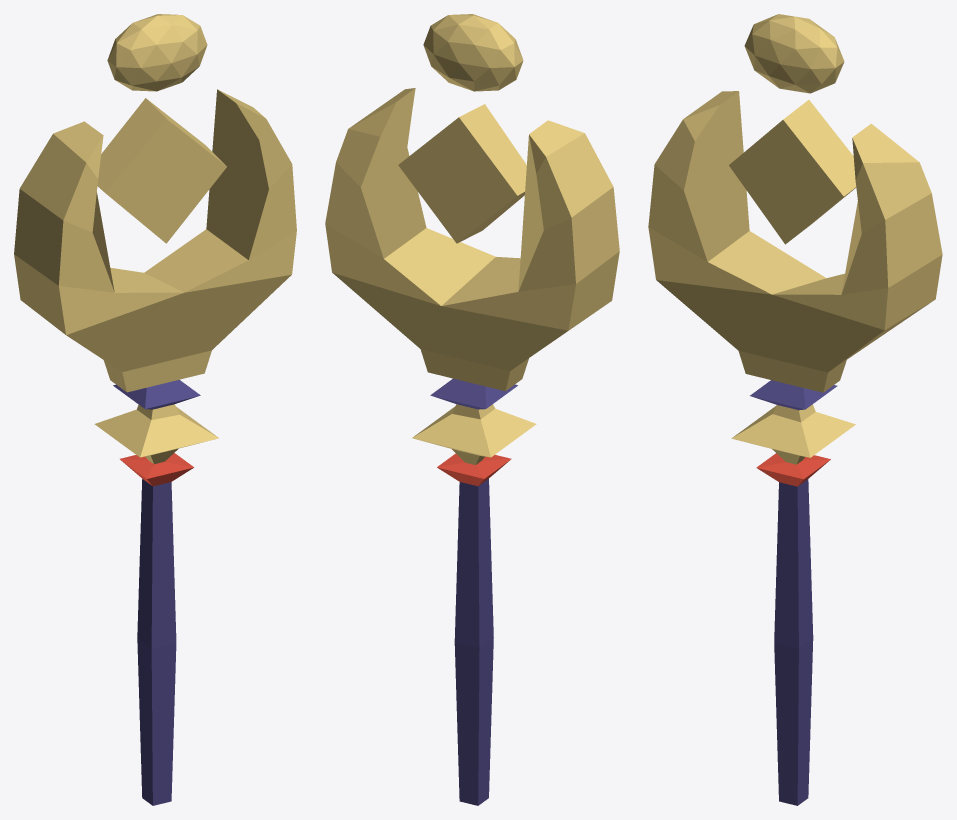
Rendered from Wand.fbx.
3 renders of one model, left to right at view 1: azimuth 30°, elevation 25°; view 2: azimuth 150°, elevation 25°; view 3: azimuth 330°, elevation 25°, orthographic.
Visible parts, largest first — view 1: wand; view 2: wand; view 3: wand.
Boxes of the visible parts, bbox=[...] form: wand: bbox=[14, 14, 296, 805]; wand: bbox=[325, 14, 619, 805]; wand: bbox=[648, 14, 942, 805].
Bounding box in the file's own units: 68.33 × 205 × 22.48.
